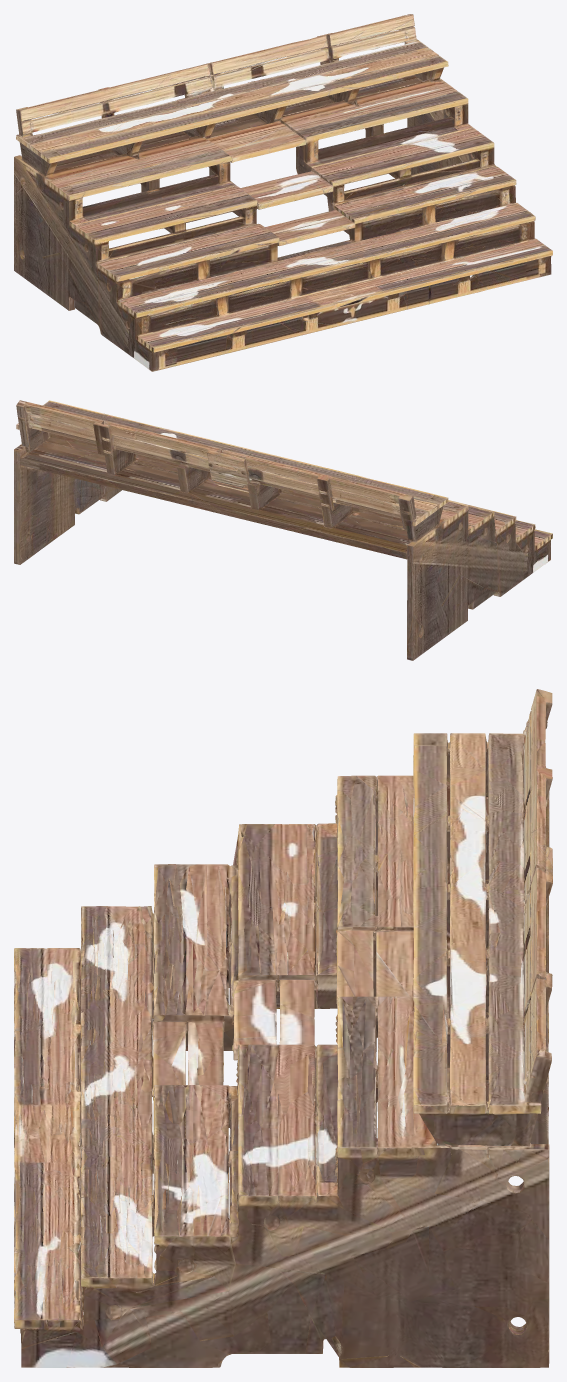
Rendered from grandstand.glb.
The picture shows the model from 3 angles, top to bottom: view 1: azimuth 30°, elevation 25°; view 2: azimuth 150°, elevation 25°; view 3: azimuth 270°, elevation 25°; orthographic projection. The views are drawn at different scales.
Bounding box in the file's own units: 1.9 × 0.738 × 1.16.
Materials: 1 (1 with a texture image).
